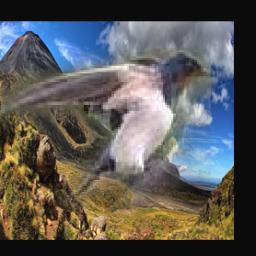Swallow: (1, 49, 211, 222)
